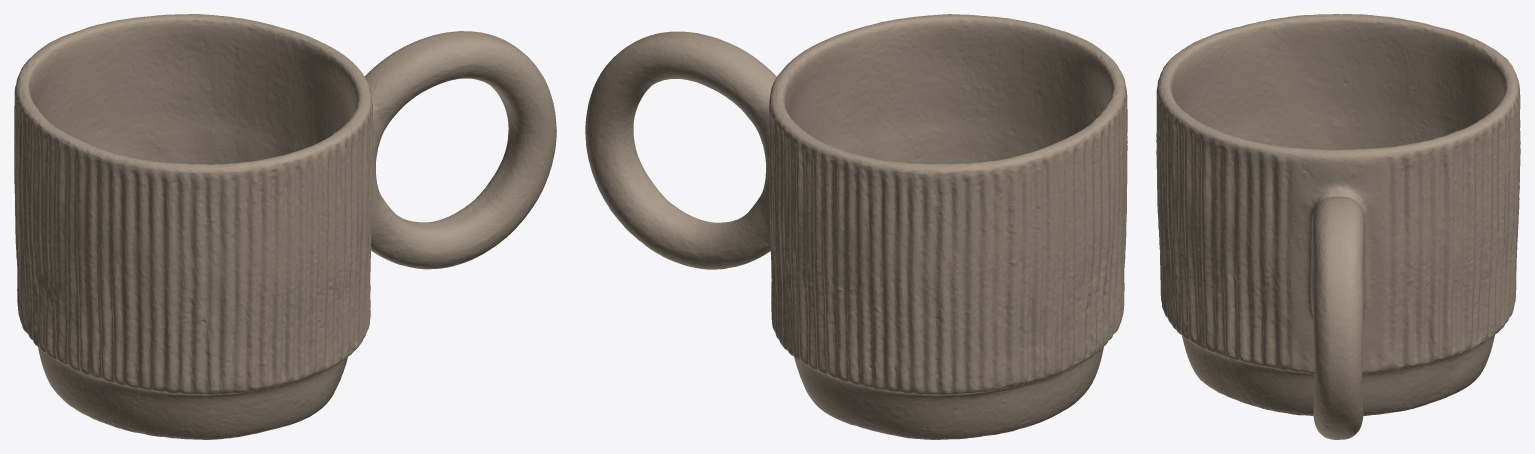
3 renders of one model, left to right at view 1: azimuth 30°, elevation 25°; view 2: azimuth 150°, elevation 25°; view 3: azimuth 270°, elevation 25°, orthographic. The views are drawn at different scales.
Visible parts, largest first — view 1: Mesh10; view 2: Mesh10; view 3: Mesh10.
Boxes of the visible parts, box(x1,y1,x2,y2) form: Mesh10: box(14, 14, 556, 439); Mesh10: box(585, 14, 1127, 439); Mesh10: box(1156, 14, 1520, 439).
Bounding box in the file's own units: 1.9 × 1.03 × 1.22.
